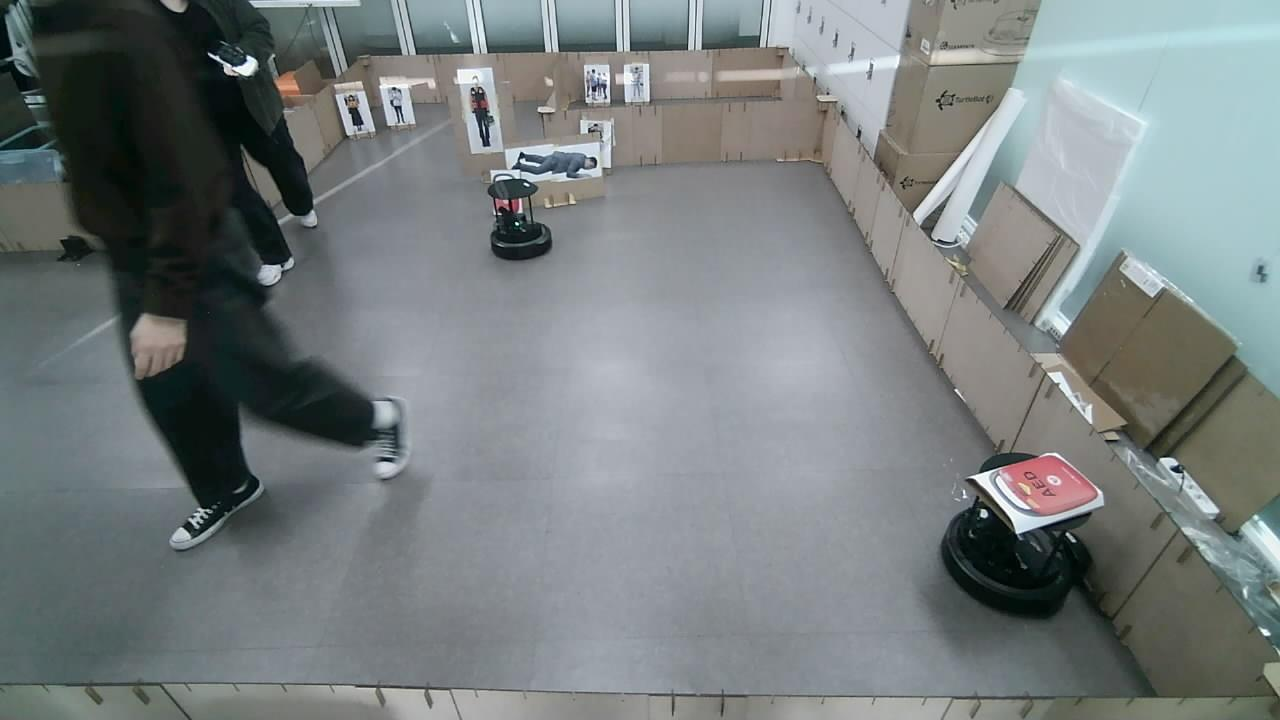Patient: (514, 151, 597, 178)
Responder: (469, 76, 489, 146)
Robot: (940, 506, 1108, 615), (487, 173, 552, 259)
